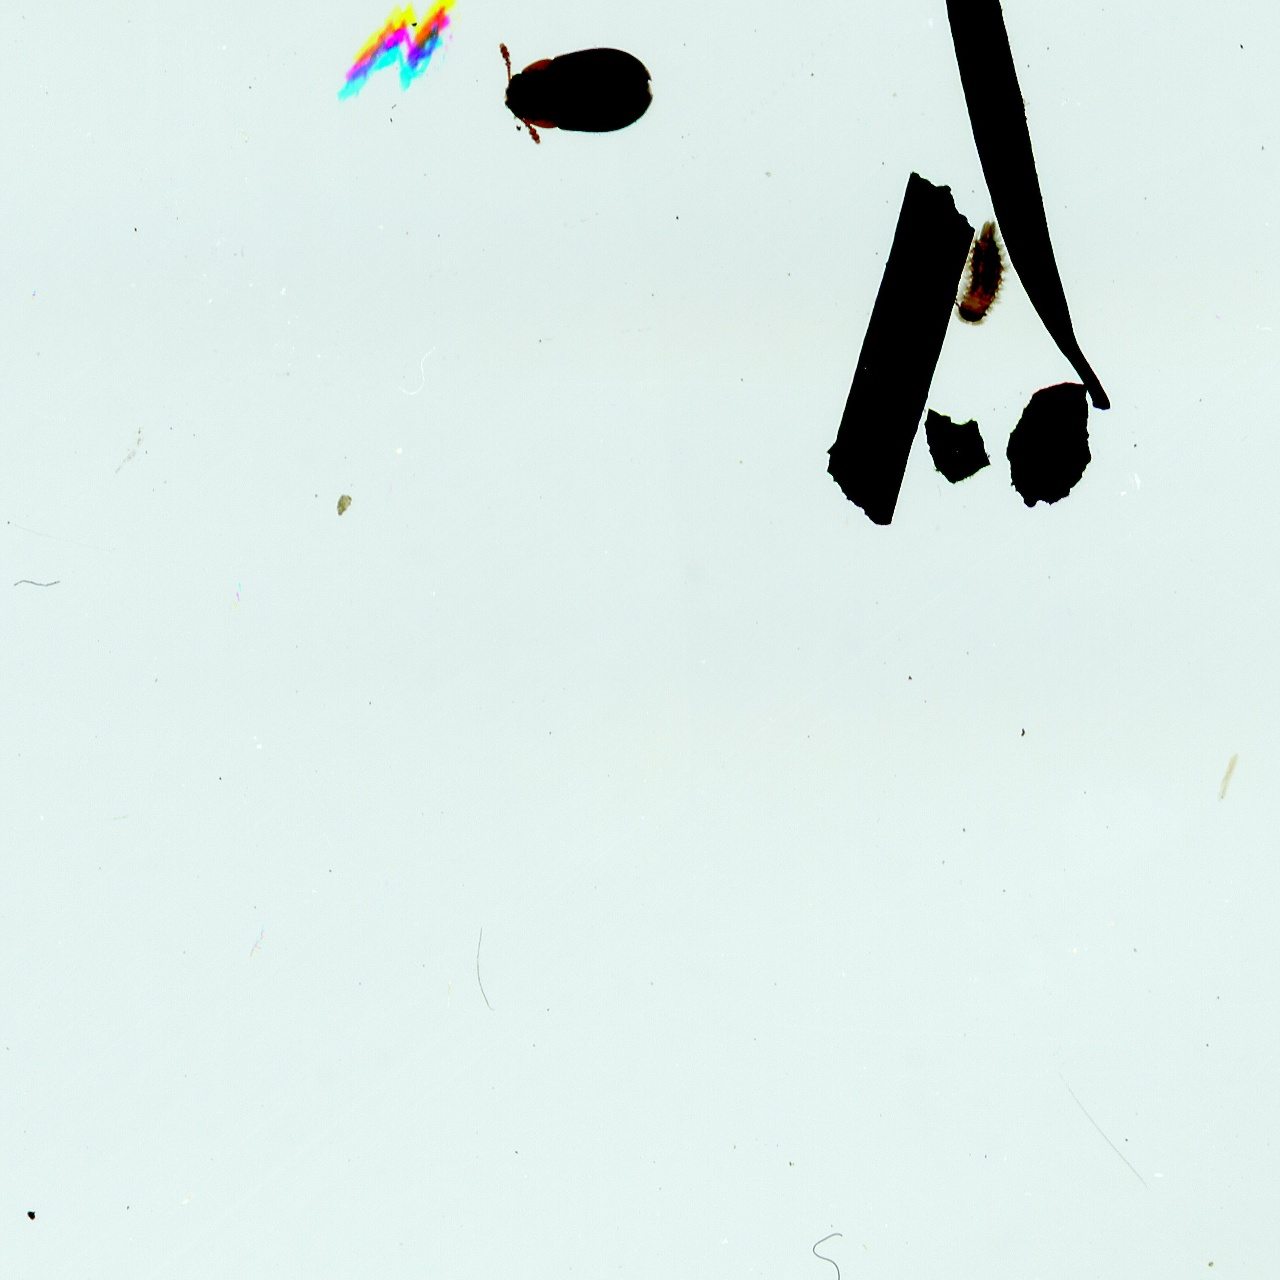arthropod: (491, 31, 674, 159), (946, 209, 1028, 340)
